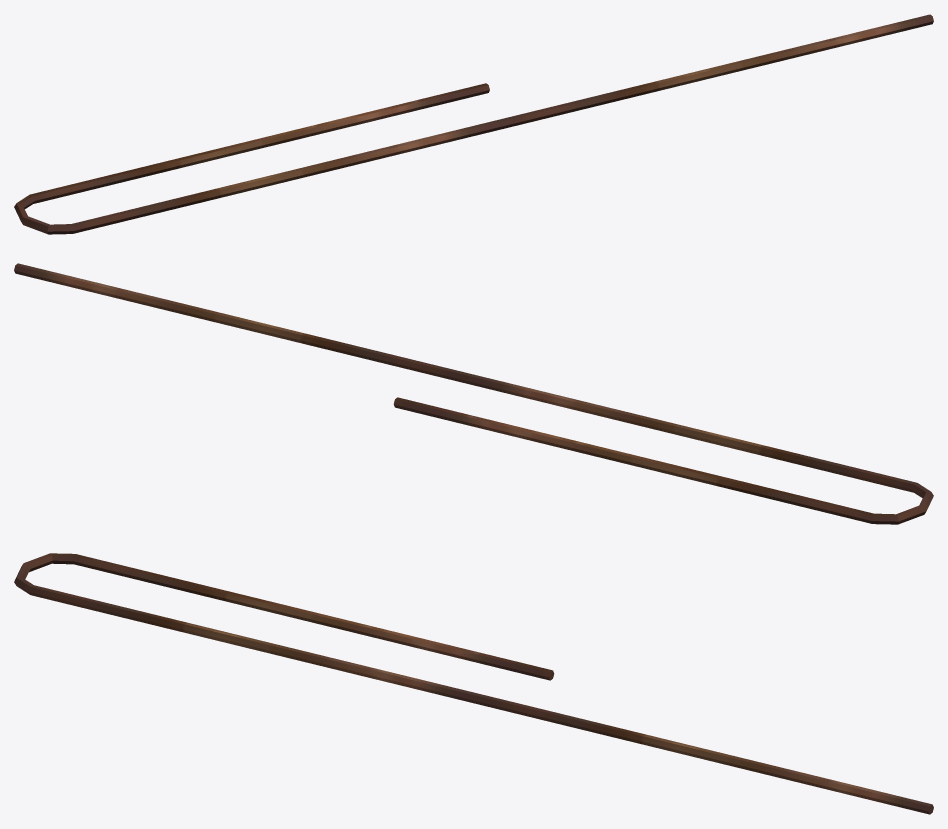
The model's file is ALV-FIX-002_lod1.glb.
3 renders of one model, top to bottom at view 1: azimuth 30°, elevation 25°; view 2: azimuth 150°, elevation 25°; view 3: azimuth 330°, elevation 25°, orthographic. The views are drawn at different scales.
Parts seen in each view (by area): view 1: ALV-FIX-002_barra; view 2: ALV-FIX-002_barra; view 3: ALV-FIX-002_barra.
Part boxes in pixels (bbox=[...]): ALV-FIX-002_barra: bbox=[14, 14, 933, 234]; ALV-FIX-002_barra: bbox=[14, 263, 933, 524]; ALV-FIX-002_barra: bbox=[14, 553, 933, 814].
Bounding box in the file's own units: 0.5075 × 0.00434 × 0.045.
Materials: 1 (1 with a texture image).
